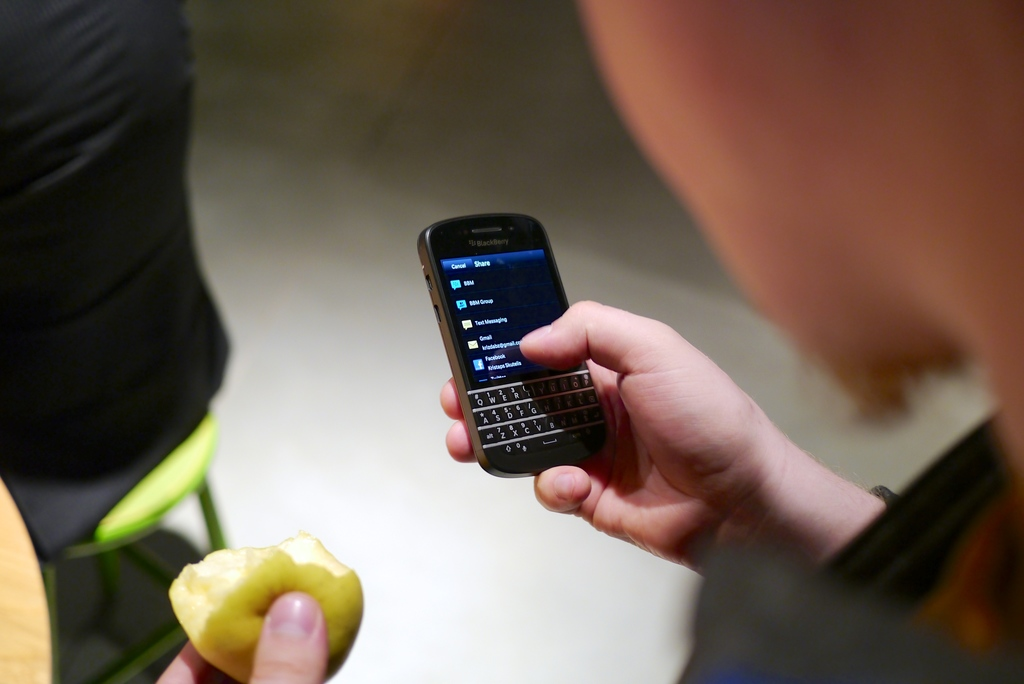Apple: (167, 529, 364, 682)
